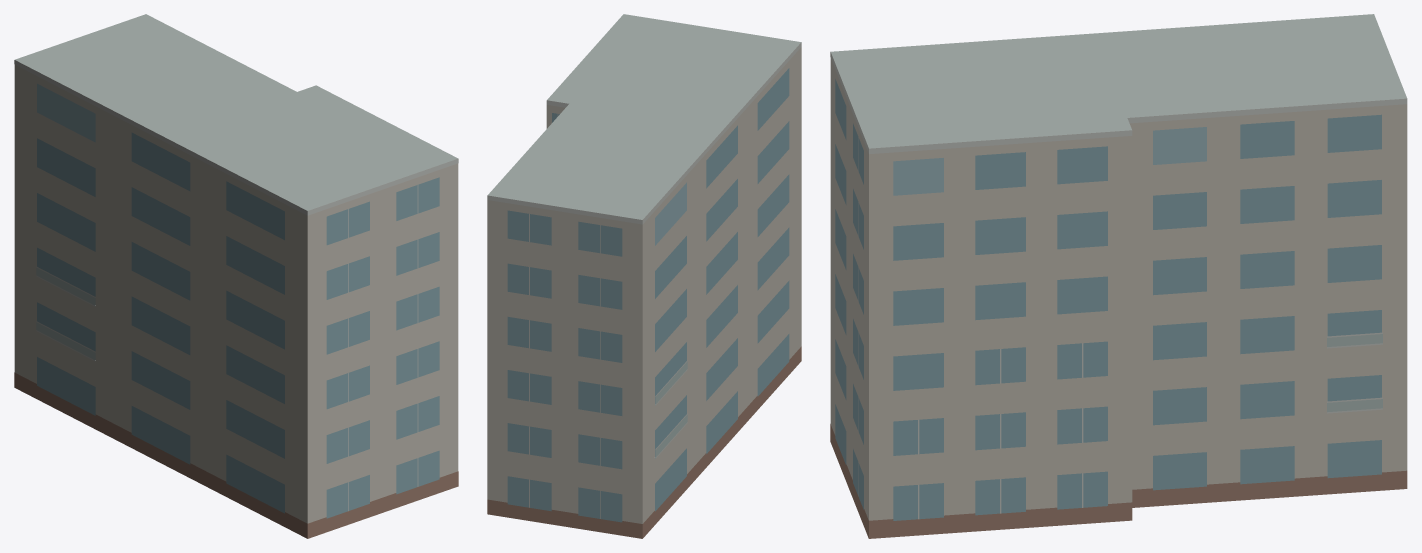
The model's file is survey-upis-32733659.glb.
3 renders of one model, left to right at view 1: azimuth 30°, elevation 25°; view 2: azimuth 150°, elevation 25°; view 3: azimuth 270°, elevation 25°, orthographic. The views are drawn at different scales.
Visible parts, largest first — view 1: survey-upis-32733659.tmp; view 2: survey-upis-32733659.tmp; view 3: survey-upis-32733659.tmp.
Boxes of the visible parts, bbox=[...] form: survey-upis-32733659.tmp: bbox=[14, 14, 458, 538]; survey-upis-32733659.tmp: bbox=[487, 14, 801, 538]; survey-upis-32733659.tmp: bbox=[830, 14, 1407, 538].
Bounding box in the file's own units: 12.58 × 17 × 22.78.
